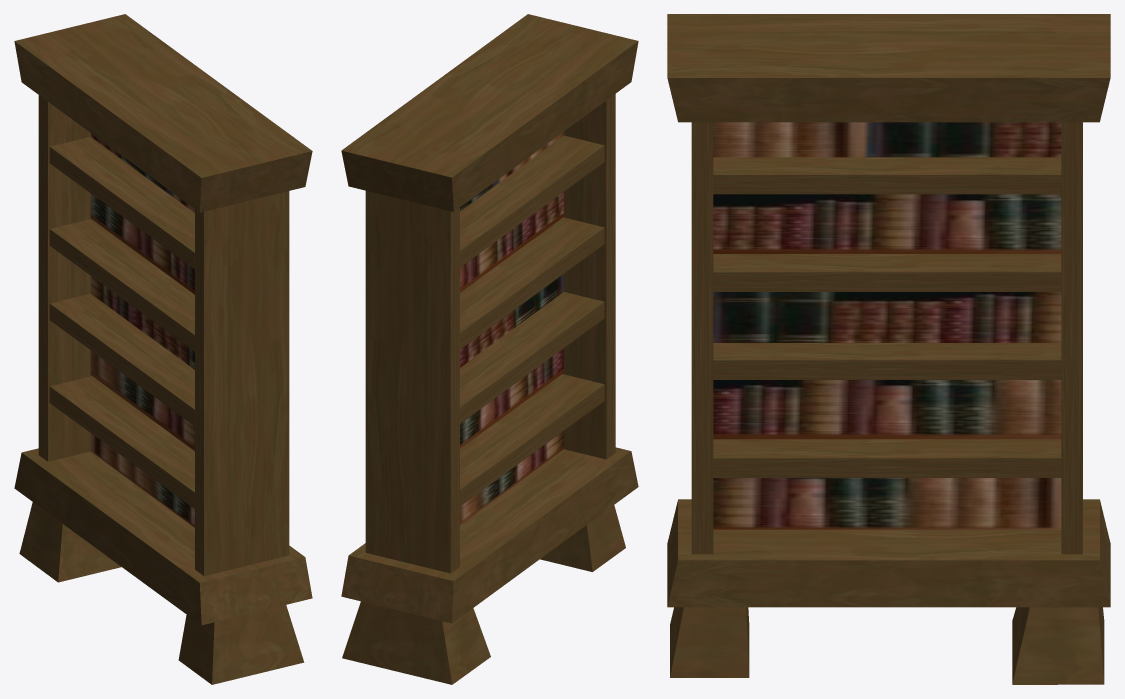
File: bookshelf.glb
3 renders of one model, left to right at view 1: azimuth 30°, elevation 25°; view 2: azimuth 150°, elevation 25°; view 3: azimuth 270°, elevation 25°, orthographic. The views are drawn at different scales.
Parts seen in each view (by area): view 1: Cube.002, Cube.007, Cube, Cube.001, nogi, Cube.003, Cube.005, Cube.004, Cube.006, Plane.003, Plane.001, Plane (+2 smaller); view 2: Cube.001, Cube.007, Cube, Cube.002, nogi, Cube.003, Cube.005, Cube.004, Cube.006, Plane.003, Plane.001, Plane (+2 smaller); view 3: Cube.007, Cube, Plane.003, Plane.001, Plane, Plane.002, Cube.003, Cube.005, Cube.006, Cube.004, nogi, Plane.004 (+2 smaller).
Part boxes in pixels (x1=…): Cube.002: x1=195, y1=191, x2=289, y2=575; Cube.007: x1=14, y1=14, x2=312, y2=212; Cube: x1=14, y1=448, x2=312, y2=625; Cube.001: x1=38, y1=95, x2=91, y2=461; nogi: x1=19, y1=502, x2=304, y2=684; Cube.003: x1=49, y1=376, x2=194, y2=508; Cube.005: x1=49, y1=219, x2=194, y2=351; Cube.004: x1=49, y1=293, x2=194, y2=425; Cube.006: x1=49, y1=137, x2=194, y2=269; Plane.003: x1=90, y1=193, x2=194, y2=294; Plane.001: x1=90, y1=350, x2=194, y2=450; Plane: x1=90, y1=433, x2=194, y2=527; Cube.001: x1=365, y1=190, x2=459, y2=573; Cube.007: x1=341, y1=14, x2=638, y2=211; Cube: x1=341, y1=447, x2=638, y2=623; Cube.002: x1=563, y1=94, x2=615, y2=459; nogi: x1=342, y1=505, x2=625, y2=684; Cube.003: x1=460, y1=374, x2=604, y2=506; Cube.005: x1=460, y1=217, x2=604, y2=349; Cube.004: x1=460, y1=292, x2=604, y2=423; Cube.006: x1=460, y1=135, x2=604, y2=267; Plane.003: x1=460, y1=192, x2=563, y2=292; Plane.001: x1=460, y1=348, x2=563, y2=448; Plane: x1=460, y1=431, x2=563, y2=524; Cube.007: x1=667, y1=14, x2=1110, y2=122; Cube: x1=667, y1=499, x2=1110, y2=607; Plane.003: x1=713, y1=194, x2=1061, y2=253; Plane.001: x1=713, y1=380, x2=1061, y2=439; Plane: x1=713, y1=478, x2=1061, y2=529; Plane.002: x1=713, y1=292, x2=1061, y2=342; Cube.003: x1=713, y1=439, x2=1061, y2=477; Cube.005: x1=713, y1=254, x2=1061, y2=291; Cube.006: x1=713, y1=157, x2=1061, y2=194; Cube.004: x1=713, y1=343, x2=1061, y2=379; nogi: x1=670, y1=607, x2=1104, y2=684; Plane.004: x1=713, y1=122, x2=1061, y2=157.
Bounding box in the file's own units: 0.962 × 4.16 × 2.76.
Materials: 6 (6 with a texture image).
